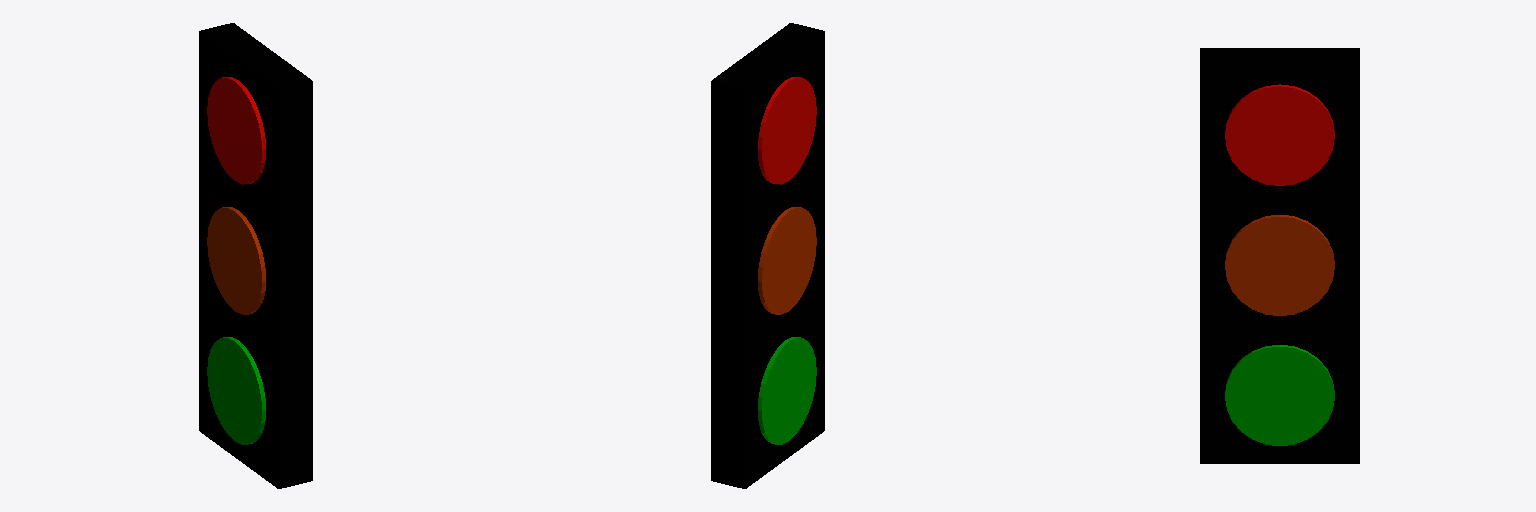
The model's file is icon_traffic_light.obj.
3 renders of one model, left to right at view 1: azimuth 30°, elevation 25°; view 2: azimuth 150°, elevation 25°; view 3: azimuth 270°, elevation 25°, orthographic.
Visible parts, largest first — view 1: Cube.005_Cube.012; view 2: Cube.005_Cube.012; view 3: Cube.005_Cube.012.
Part boxes in pixels (x1,y1,x2,y2): Cube.005_Cube.012: (199, 23, 312, 488); Cube.005_Cube.012: (711, 23, 824, 488); Cube.005_Cube.012: (1200, 48, 1359, 463).
Size of the model in its own units: 0.617 by 5.54 by 2.